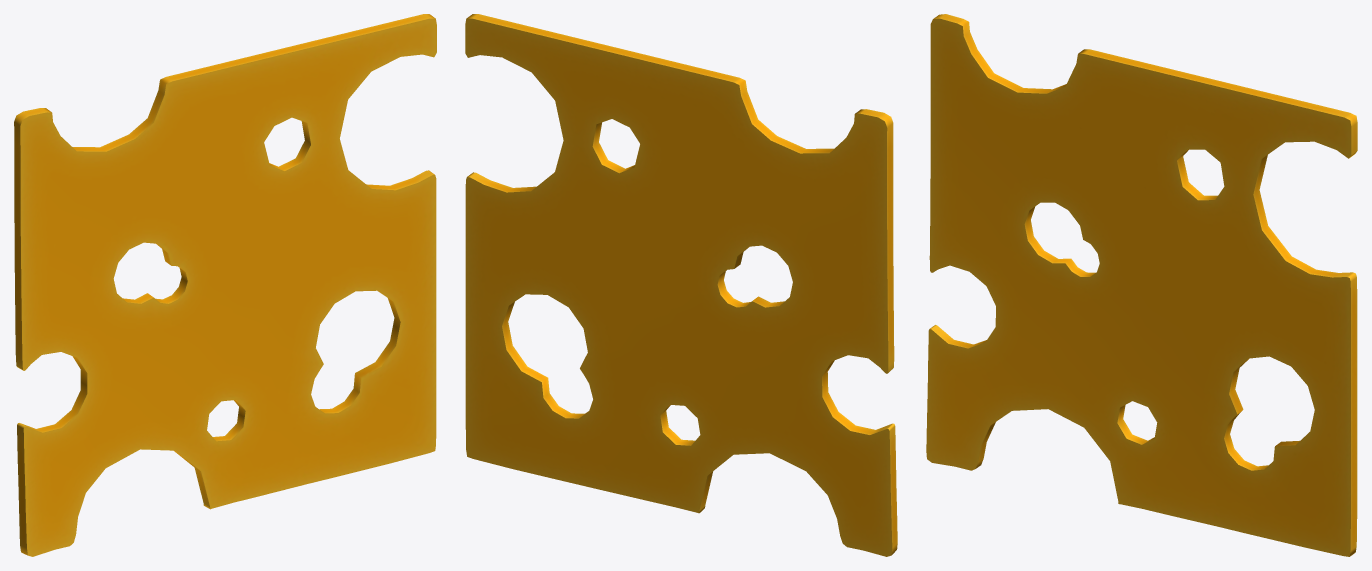
File: CheeseSlices_1.fbx
3 views of the same model, side by side, from view 1: azimuth 30°, elevation 25°; view 2: azimuth 150°, elevation 25°; view 3: azimuth 330°, elevation 25° (orthographic).
Parts seen in each view (by area): view 1: CheeseSlices_1; view 2: CheeseSlices_1; view 3: CheeseSlices_1.
Boxes of the visible parts, x1=… form: CheeseSlices_1: x1=14, y1=14, x2=436, y2=556; CheeseSlices_1: x1=465, y1=14, x2=897, y2=556; CheeseSlices_1: x1=926, y1=14, x2=1357, y2=556.
Size of the model in its own units: 0.0816 by 0.0819 by 0.00402.
Materials: 1 (1 with a texture image).
